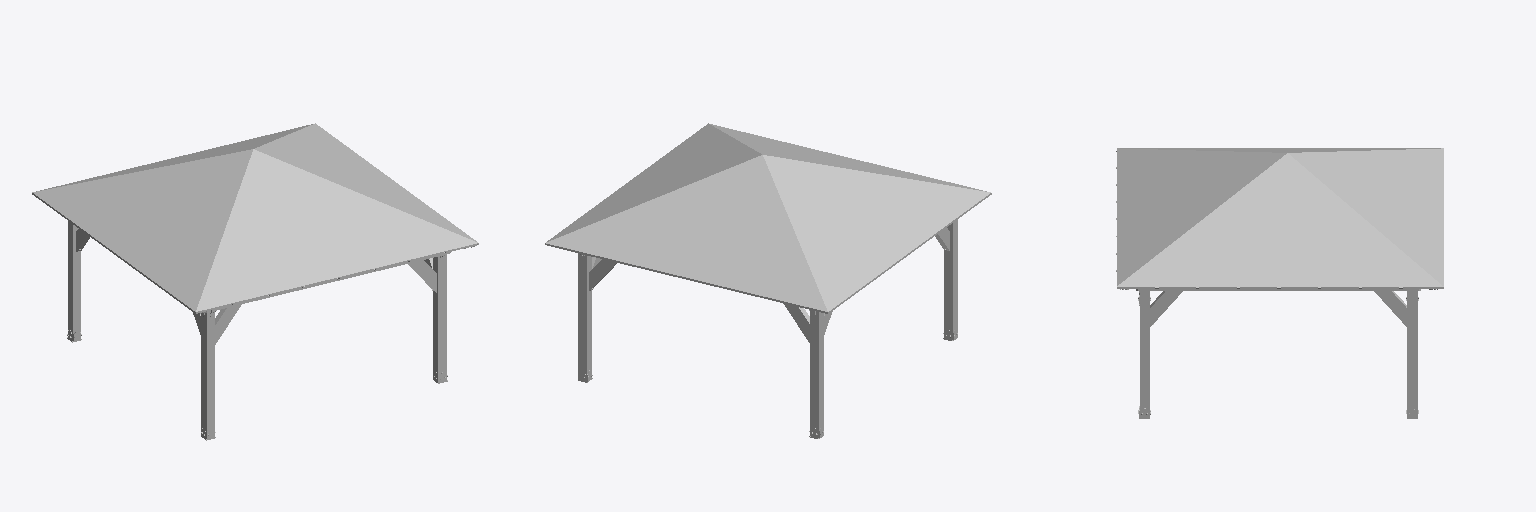
File: saratoga-16x16-classic.obj
3 views of the same model, side by side, from view 1: azimuth 30°, elevation 25°; view 2: azimuth 150°, elevation 25°; view 3: azimuth 270°, elevation 25° (orthographic).
Visible parts, largest first — view 1: Mesh234 shingles roof Group1 Model, Mesh185 Group71 Component_92_4 Group2 Group1 Model, Mesh87 Group43 Component_92_2 Group2 Group1 Model, Mesh136 Group57 Component_92_3 Group2 Group1 Model, Mesh235 roof Group1 Model; view 2: Mesh234 shingles roof Group1 Model, Mesh136 Group57 Component_92_3 Group2 Group1 Model, Mesh1 Group4 Component_92_1 Group3 Group2 Group1 Model, Mesh185 Group71 Component_92_4 Group2 Group1 Model, Mesh235 roof Group1 Model; view 3: Mesh234 shingles roof Group1 Model, Mesh1 Group4 Component_92_1 Group3 Group2 Group1 Model, Mesh87 Group43 Component_92_2 Group2 Group1 Model, Mesh235 roof Group1 Model.
Part boxes in pixels (x1,y1,x2,y2): Mesh234 shingles roof Group1 Model: (32, 123, 477, 311); Mesh185 Group71 Component_92_4 Group2 Group1 Model: (201, 312, 214, 438); Mesh87 Group43 Component_92_2 Group2 Group1 Model: (433, 254, 446, 382); Mesh136 Group57 Component_92_3 Group2 Group1 Model: (68, 221, 80, 340); Mesh235 roof Group1 Model: (32, 193, 478, 313); Mesh234 shingles roof Group1 Model: (546, 123, 990, 311); Mesh136 Group57 Component_92_3 Group2 Group1 Model: (810, 311, 823, 437); Mesh1 Group4 Component_92_1 Group3 Group2 Group1 Model: (578, 253, 591, 381); Mesh185 Group71 Component_92_4 Group2 Group1 Model: (944, 219, 957, 339); Mesh235 roof Group1 Model: (545, 193, 991, 313); Mesh234 shingles roof Group1 Model: (1117, 148, 1443, 286); Mesh1 Group4 Component_92_1 Group3 Group2 Group1 Model: (1407, 291, 1417, 417); Mesh87 Group43 Component_92_2 Group2 Group1 Model: (1140, 291, 1149, 417); Mesh235 roof Group1 Model: (1117, 287, 1443, 288).
Size of the model in its own units: 193 by 135 by 193.